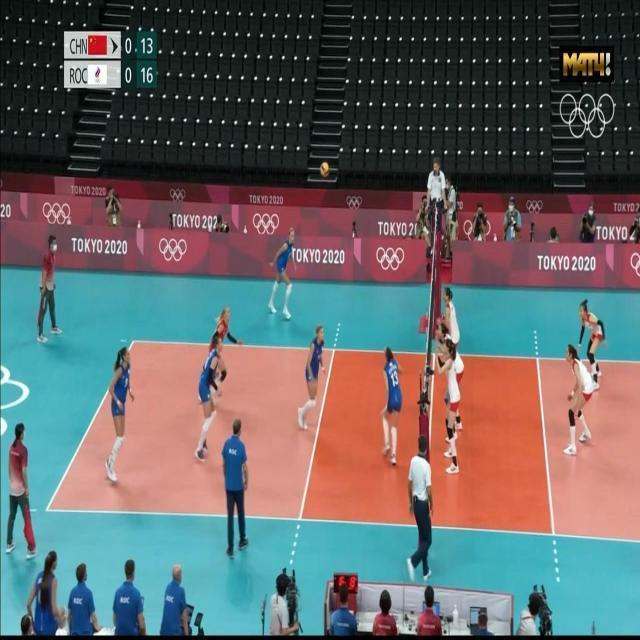volleyball: (320, 162, 330, 176)
